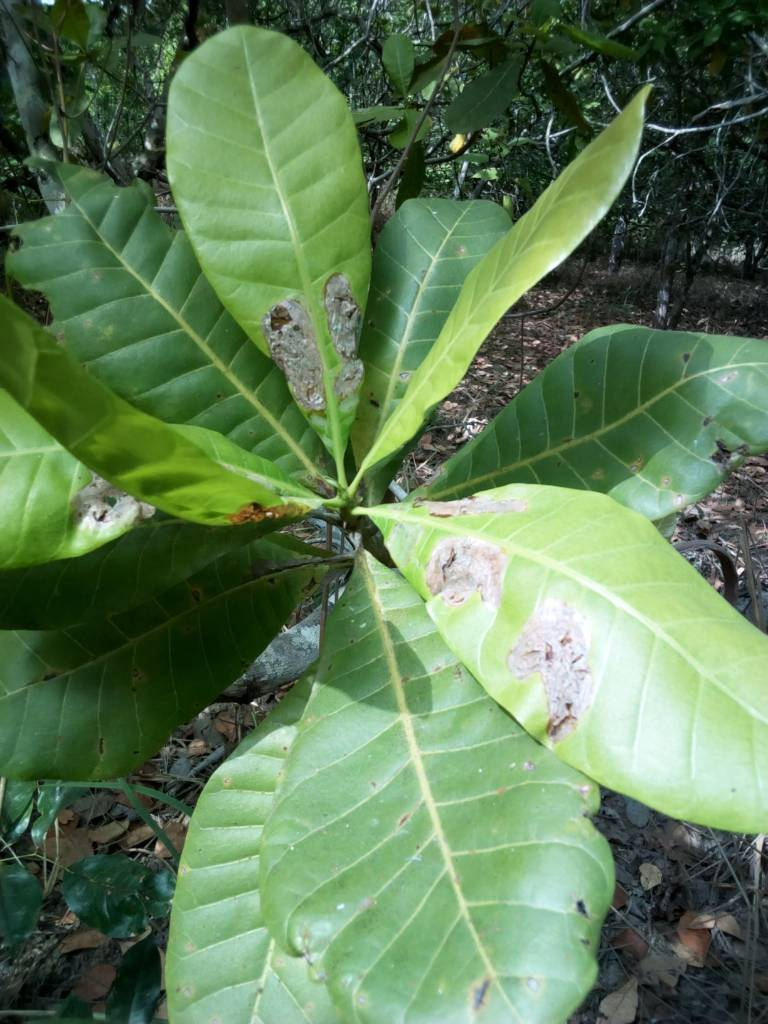Dysdercus wolkerii: (366, 477, 768, 825)
